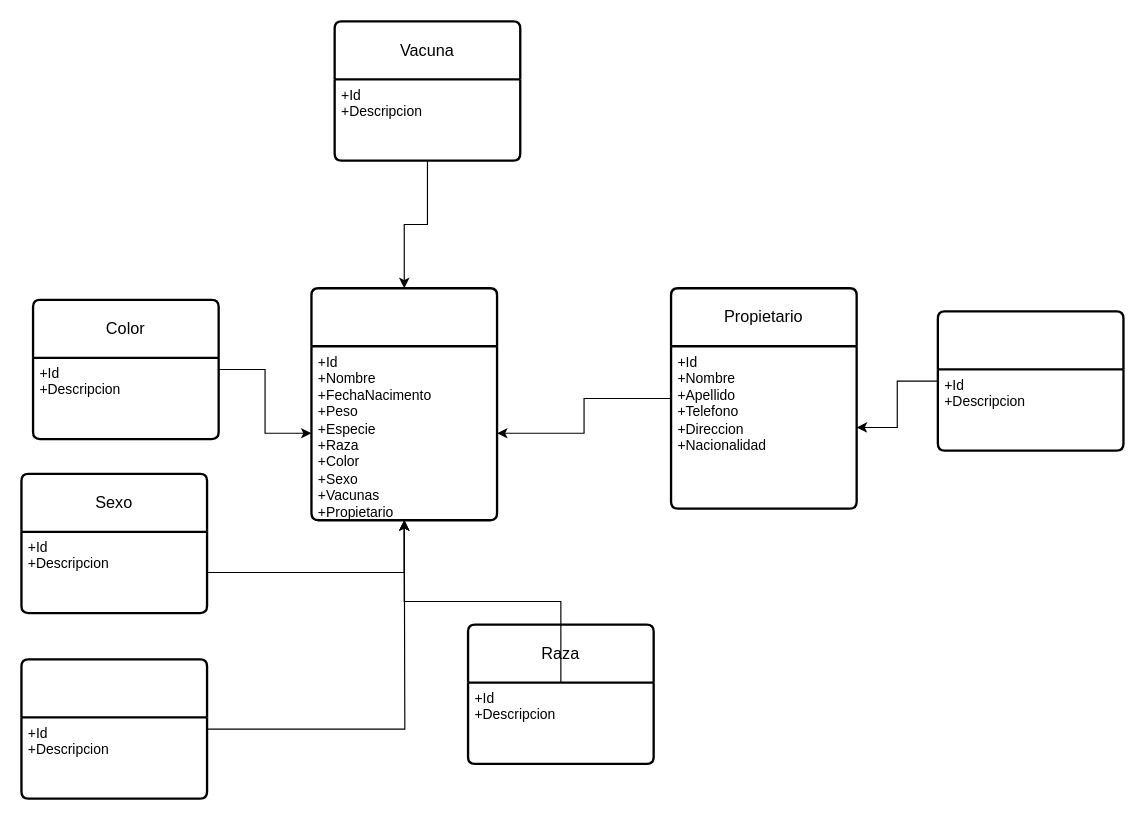
Some shapes in this 1144 by 819 pixel diagram are drawn without their labels. Each missing label, with the box of its shape:
Especie: (20, 658, 208, 799)
Mascota: (310, 287, 498, 521)
Nacionalidad: (936, 310, 1124, 451)
